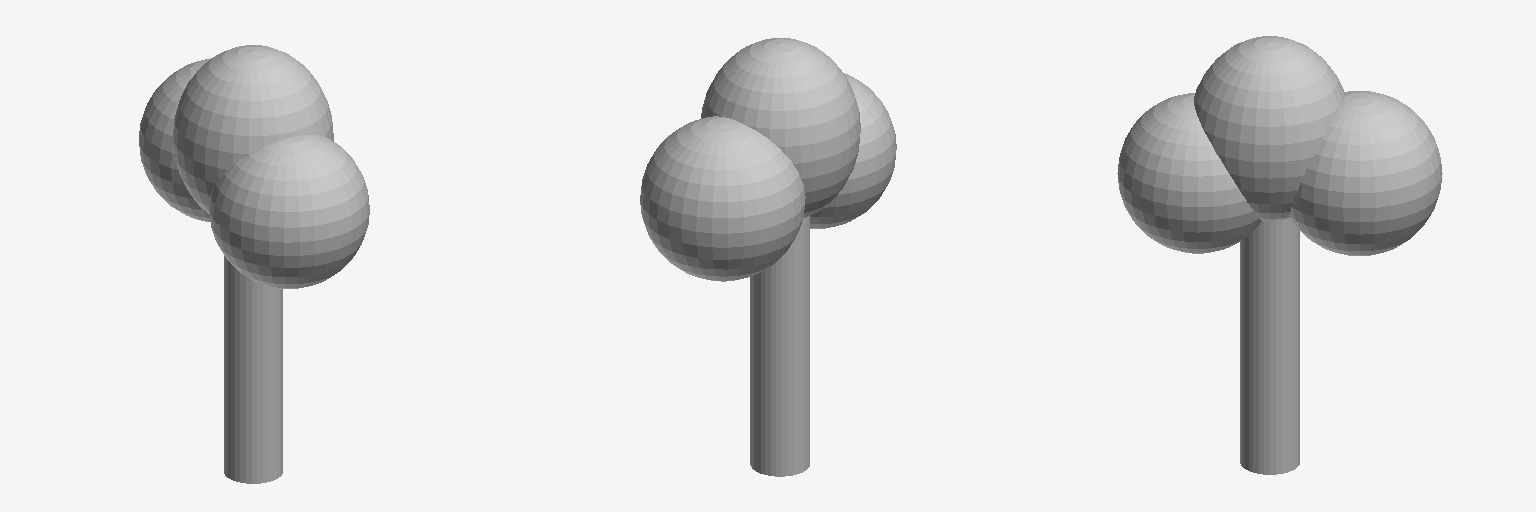
The model's file is bad_tree.obj.
3 views of the same model, side by side, from view 1: azimuth 30°, elevation 25°; view 2: azimuth 150°, elevation 25°; view 3: azimuth 270°, elevation 25° (orthographic).
Parts seen in each view (by area): view 1: Cylinder; view 2: Cylinder; view 3: Cylinder.
Part boxes in pixels (x1,y1,x2,y2): Cylinder: (139,45,369,483); Cylinder: (640,38,896,476); Cylinder: (1117,36,1442,474).
Bounding box in the file's own units: 5.96 × 15.47 × 10.86.